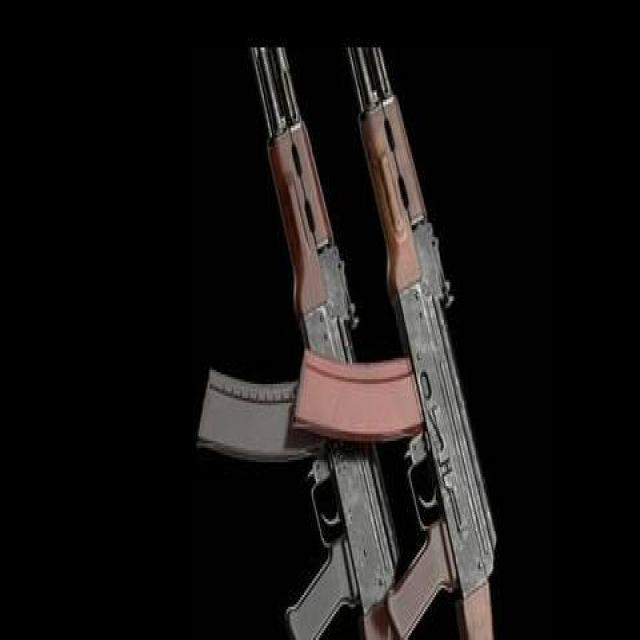weapon: (196, 46, 400, 640), (292, 47, 496, 640)
